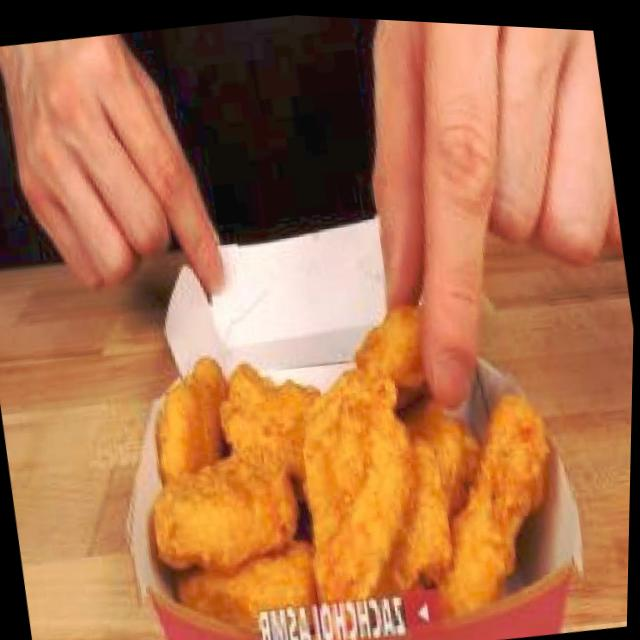chicken_nuggets: (125, 324, 439, 640), (372, 383, 576, 630), (347, 298, 435, 417)
